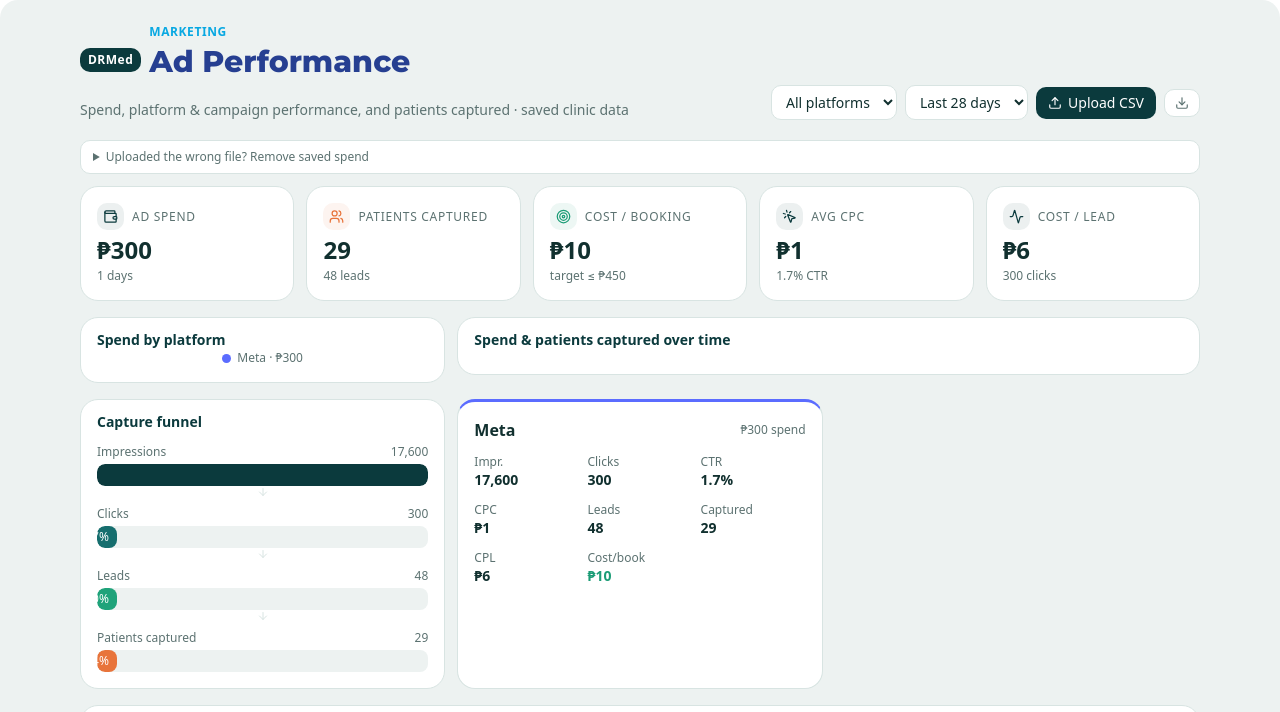
data source: the database, not this browser › offers the remove-by-platform-and-range form once something is saved
Step 1. Click the heading "Uploaded the wrong file? Remove saved spend" → (237,156), box [106,148,369,165]
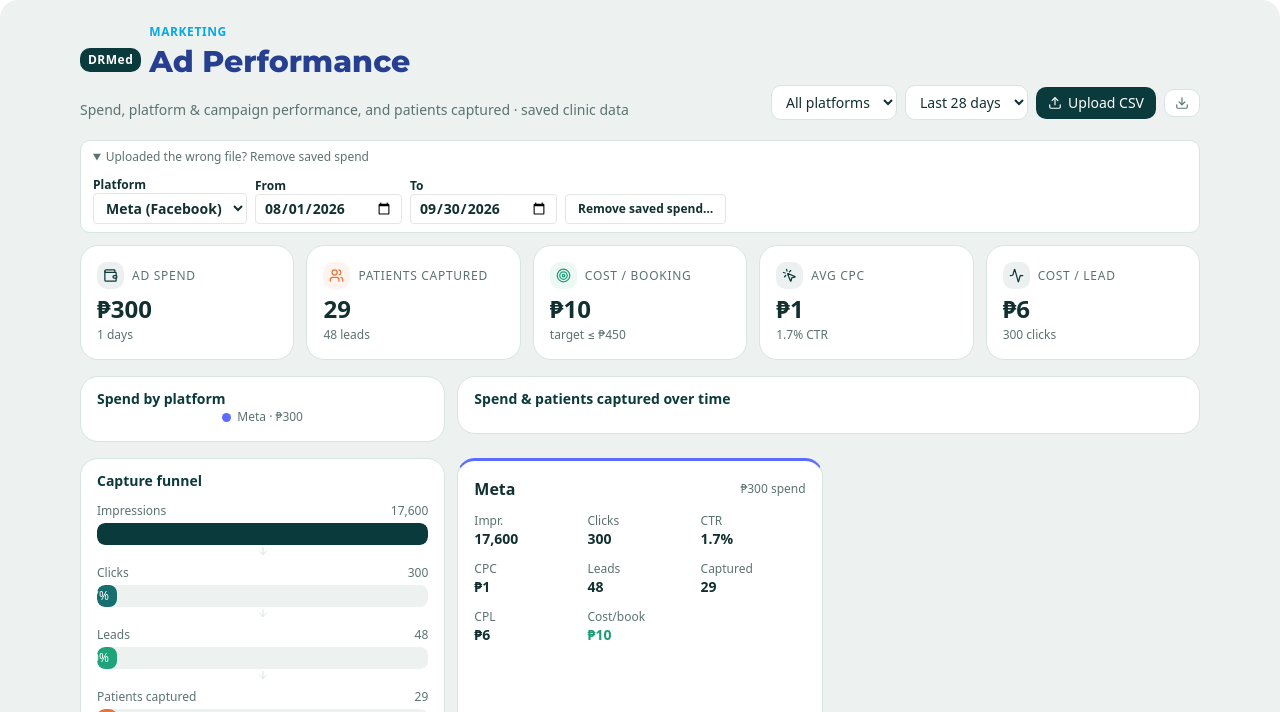
Expected: the button "Remove saved spend…" is shown, [565,194,726,224]
Expected: the date field labelled "From" holds "2026-08-01", [255,194,402,224]
Expected: the date field labelled "To" holds "2026-09-30", [410,194,557,224]
